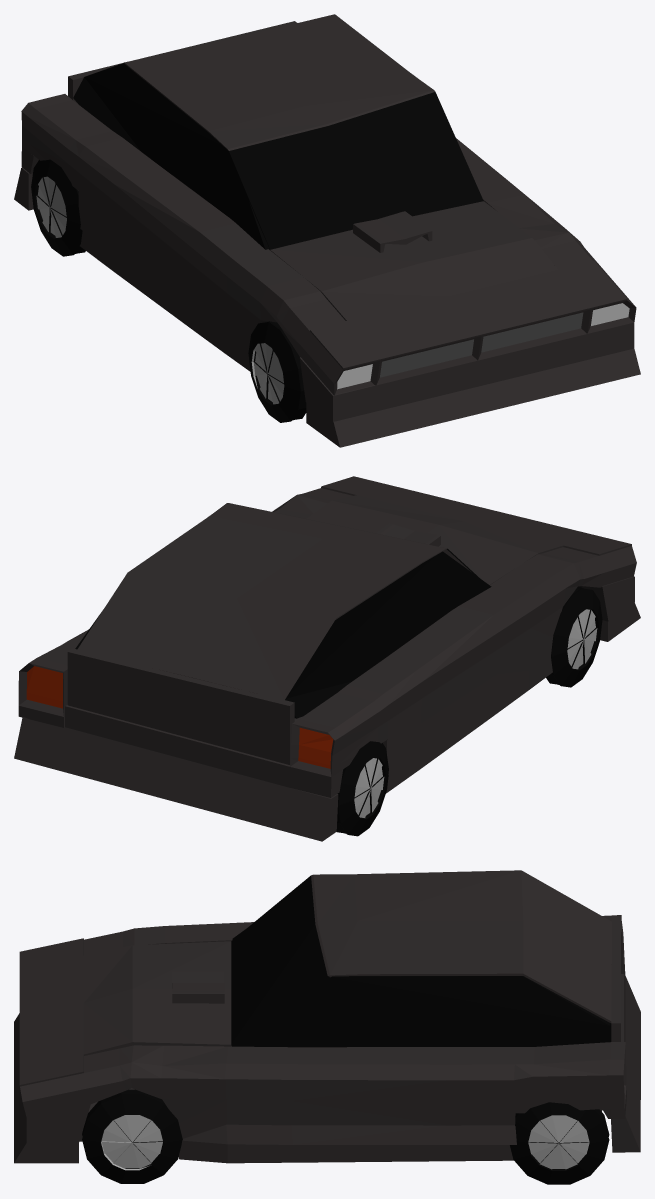
The model's file is Car_Prop_Model.fbx.
3 views of the same model, one above another, from view 1: azimuth 30°, elevation 25°; view 2: azimuth 150°, elevation 25°; view 3: azimuth 270°, elevation 25° (orthographic). The views are drawn at different scales.
Visible parts, largest first — view 1: polySurface1; view 2: polySurface1; view 3: polySurface1.
Boxes of the visible parts, x1,y1,x2,y2 form: polySurface1: [14, 14, 640, 447]; polySurface1: [14, 476, 640, 841]; polySurface1: [14, 870, 640, 1184].
Size of the model in its own units: 6.97 by 4.09 by 11.99.
